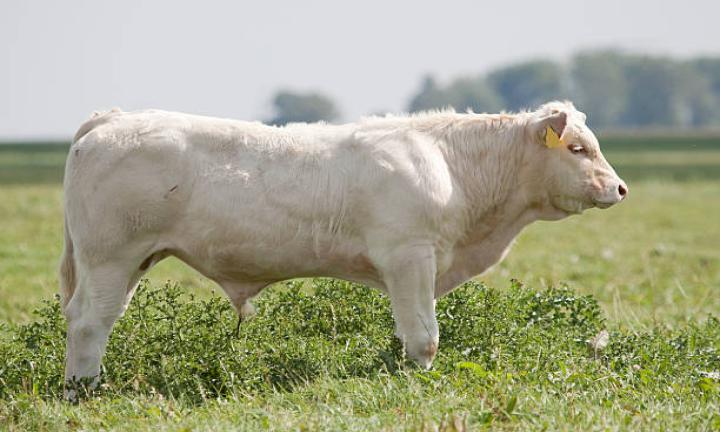Charolais: (59, 101, 626, 378)
